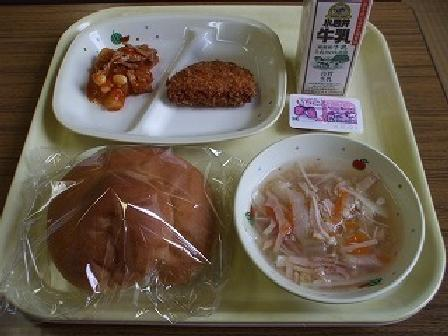Bread: (36, 140, 229, 310)
Milk: (292, 1, 380, 94)
Soups: (226, 140, 412, 294), (76, 35, 161, 113)
cutlet: (154, 44, 275, 129)
